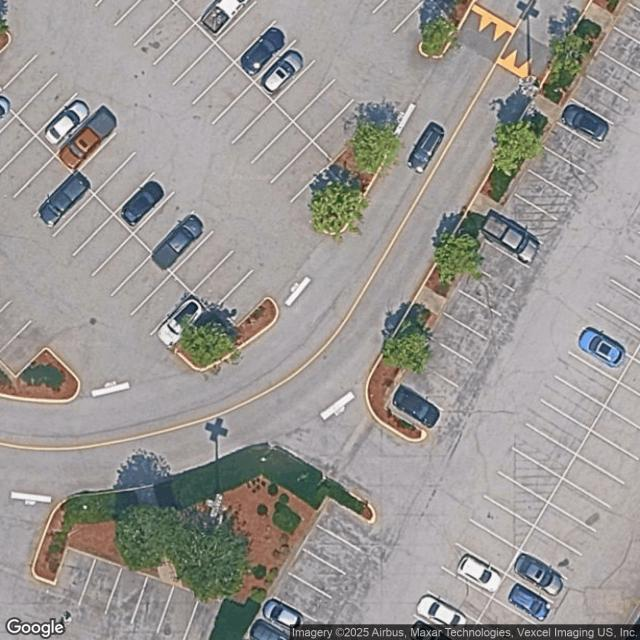car: (56, 104, 121, 173), (32, 172, 93, 235), (479, 211, 545, 269), (38, 90, 97, 152), (149, 213, 208, 274), (116, 172, 175, 232), (232, 22, 289, 82), (256, 44, 312, 102), (411, 590, 477, 639), (153, 293, 206, 353), (511, 551, 568, 599), (453, 550, 507, 598), (558, 99, 611, 147), (392, 384, 444, 431), (258, 596, 314, 639), (503, 581, 557, 625), (574, 328, 629, 371), (244, 620, 292, 639)
lot_boundary: (0, 0, 639, 639), (0, 0, 471, 402)
